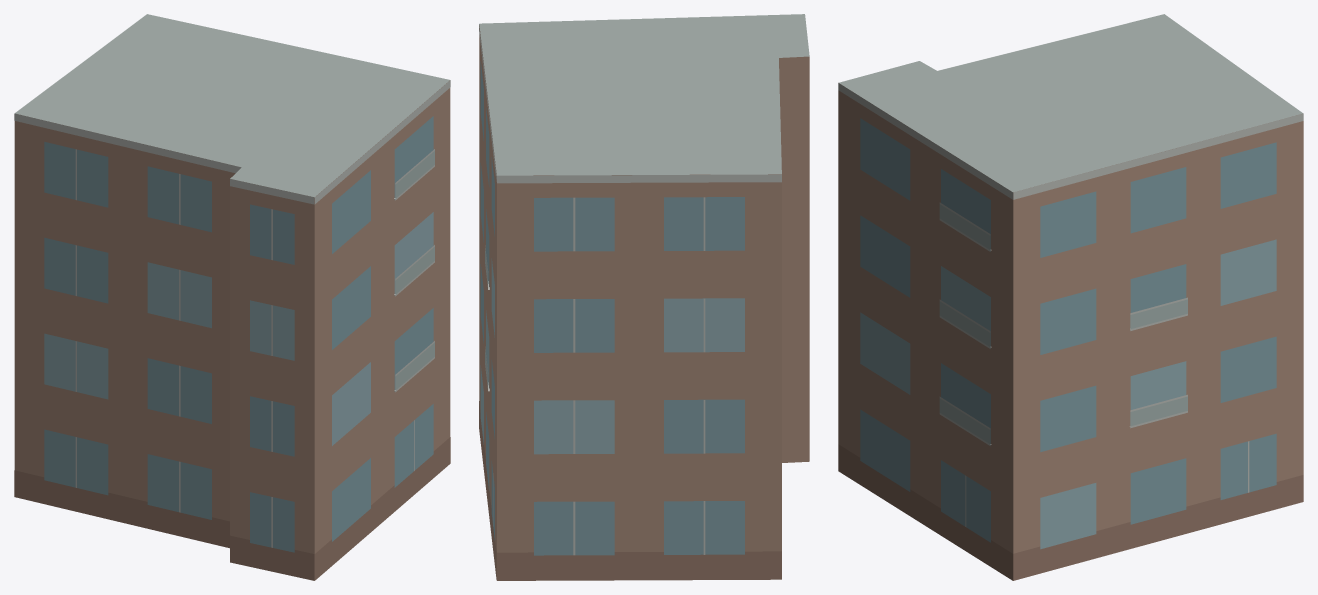
Rendered from survey-upis-33017879.glb.
3 renders of one model, left to right at view 1: azimuth 30°, elevation 25°; view 2: azimuth 150°, elevation 25°; view 3: azimuth 270°, elevation 25°, orthographic. The views are drawn at different scales.
Visible parts, largest first — view 1: survey-upis-33017879.tmp; view 2: survey-upis-33017879.tmp; view 3: survey-upis-33017879.tmp.
Part boxes in pixels (x1=…): survey-upis-33017879.tmp: x1=14, y1=14, x2=450, y2=580; survey-upis-33017879.tmp: x1=479, y1=14, x2=809, y2=580; survey-upis-33017879.tmp: x1=838, y1=14, x2=1303, y2=580.
Size of the model in its own units: 12.52 by 12.7 by 13.79.
